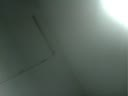window: (0, 5, 33, 96), (43, 77, 72, 96), (44, 40, 66, 53), (96, 88, 117, 96), (92, 59, 101, 66)
